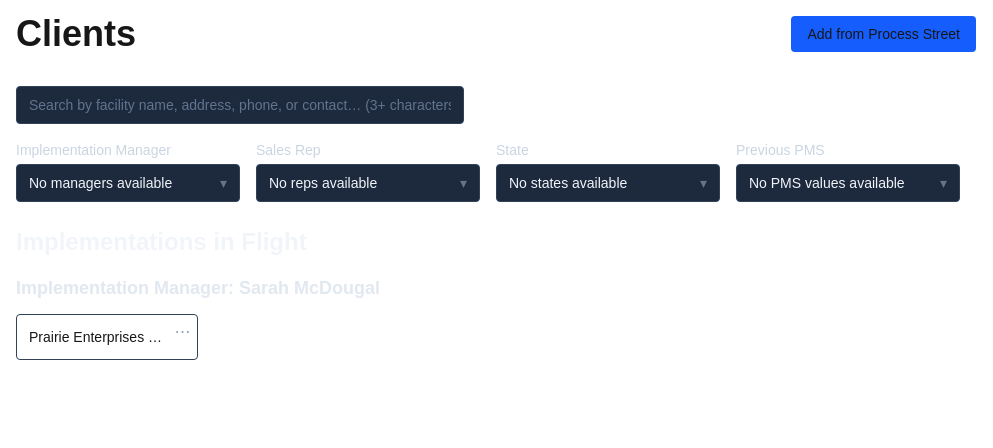
Test case: ClientsPage › shows an error and does not reload when archiving fails
This screenshot has width=993, height=448.
Check: the link "Prairie Enterprises LLC" is shown, box [16,314,198,360]
Click the button named "More actions for Prairie Enterprises LLC" at (182, 332), box [170,320,194,344]
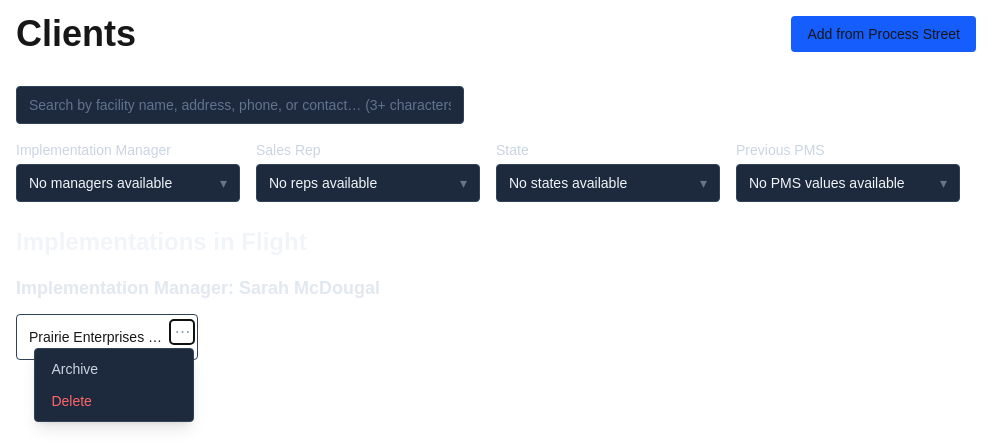
Click the button "Archive" at (114, 369), box [39,353,189,385]
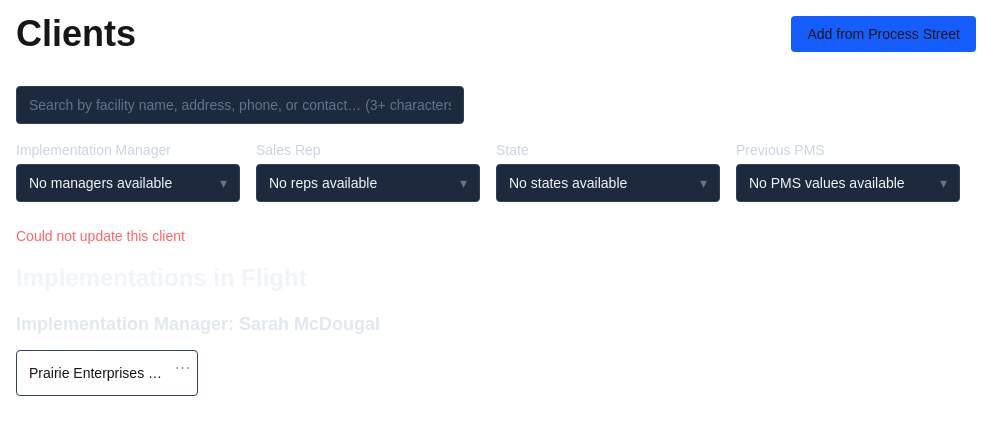
Check: the message reads "Could not update this client", box [16,228,185,244]
